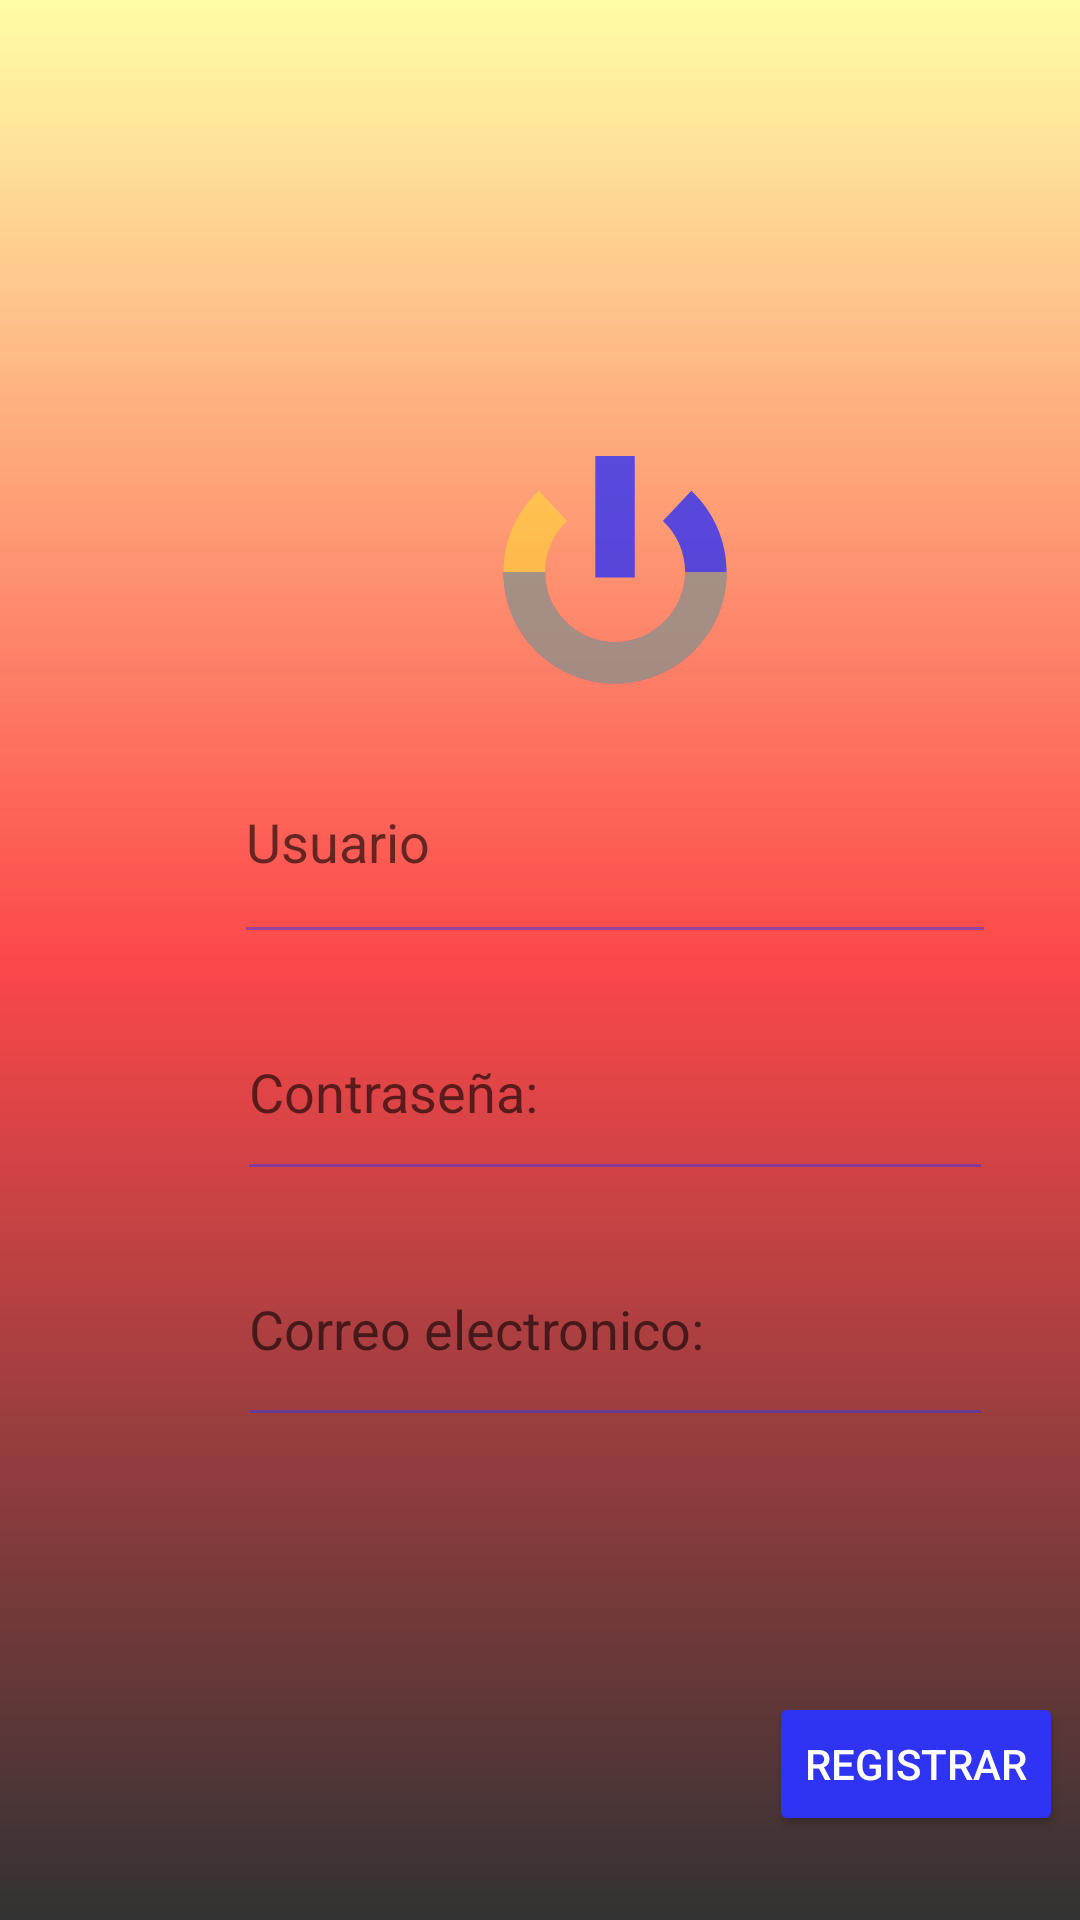

Icon click points for this 1080 x 1920 phone screenshot, format [x,y]:
power: [615,574]
